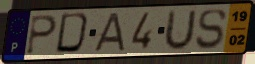4: (130, 11, 154, 52)
A: (90, 11, 128, 53)
D: (53, 12, 93, 56)
P: (24, 14, 59, 56)
S: (194, 7, 229, 51)
U: (161, 8, 198, 53)
